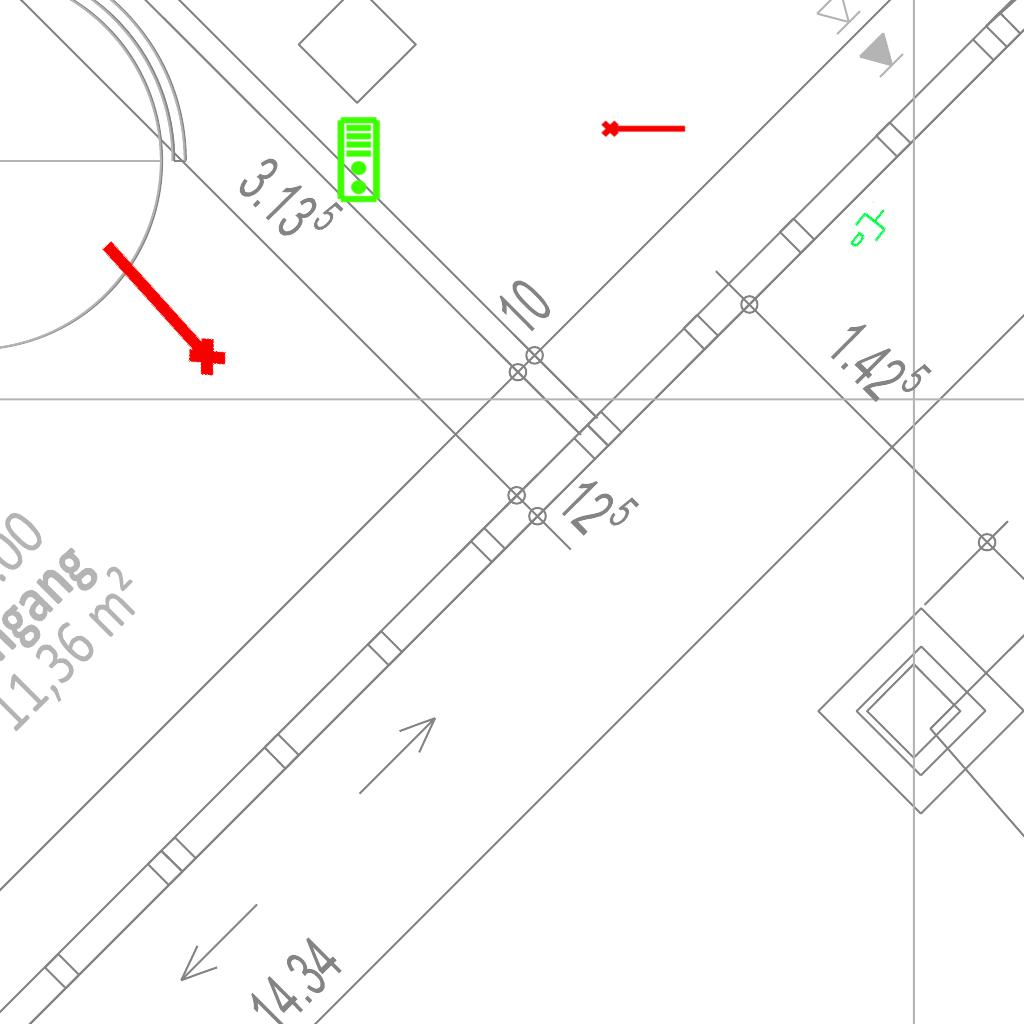ASR_Ansaugoeffnung: (84, 227, 236, 389), (600, 116, 688, 139)
Datenanschluss_einfach: (841, 198, 899, 260)
Gegensprechanlage_mit_Video: (336, 116, 383, 204)
